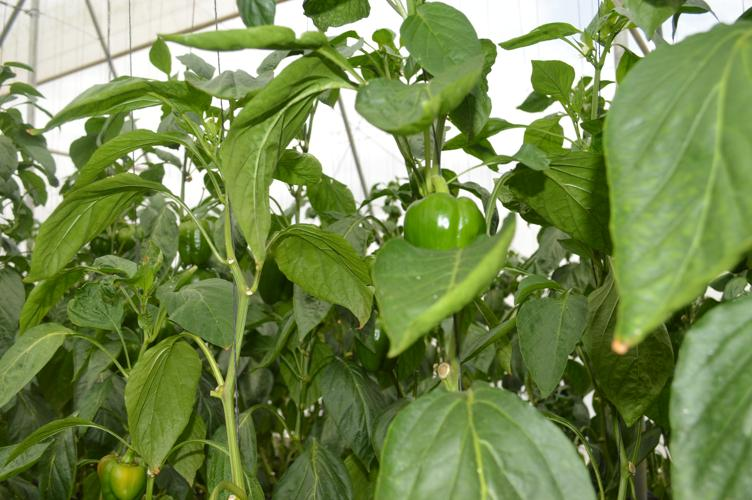BellPepper: (401, 193, 488, 248), (178, 222, 210, 265)
